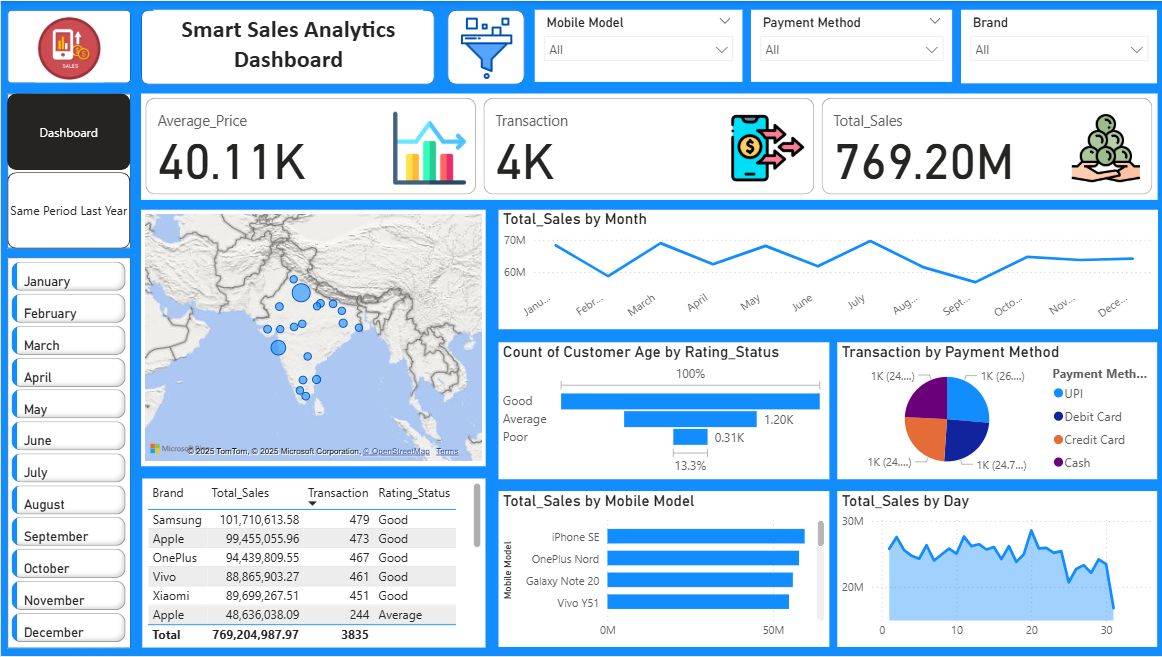

This screenshot's page, from the dashboard's own definition file:
{"tool":"powerbi","page":{"name":"Dashboard","canvas":[1280,720],"ordinal":0},"visuals":[{"type":"shape","box":[6.9,9.6,135.8,81],"z":0},{"type":"shape","box":[6.9,101.5,135.8,170.2],"z":1000},{"type":"shape","box":[6.9,281.3,135.8,429.5],"z":2000},{"type":"advancedSlicerVisual","fields":{"Values":["Custom.Date.Variation.Date Hierarchy.Month"]},"box":[6.9,281.3,135.8,429.5],"z":3000},{"type":"cardVisual","fields":{"Data":["Sales_Data.Average_Price","Sales_Data.Transaction","Sales_Data.Total_Sales"]},"box":[153.7,101.5,1115.6,116.6],"z":4000},{"type":"slicer","fields":{"Values":["Sales_Data.Mobile Model"]},"box":[585.9,9.6,227.8,79.6],"z":5000},{"type":"slicer","fields":{"Values":["Sales_Data.Payment Method"]},"box":[823.3,9.6,220.9,79.6],"z":6000},{"type":"slicer","fields":{"Values":["Sales_Data.Brand"]},"box":[1053.9,9.6,215.4,81],"z":7000},{"type":"shape","box":[489.9,9.6,85.1,82.3],"z":8000},{"type":"image","box":[429.5,12.3,207.2,79.6],"z":9000},{"type":"shape","box":[153.7,9.6,322.5,82.3],"z":10000},{"type":"textbox","box":[167.4,9.6,296.4,78.2],"z":11000},{"type":"map","fields":{"Category":["Sales_Data.City"],"Size":["Sales_Data.Total_Sales"]},"box":[154.3,228.6,378.6,281.4],"z":12000},{"type":"lineChart","fields":{"Y":["Sales_Data.Total_Sales"],"Category":["Custom.Date.Variation.Date Hierarchy.Month"]},"box":[545.7,228.6,724.3,131.4],"z":13000},{"type":"funnel","fields":{"Category":["Sales_Data.Rating_Status"],"Y":["CountNonNull(Sales_Data.Customer Age)"]},"box":[545.7,374.3,362.9,150],"z":14000},{"type":"pieChart","fields":{"Category":["Sales_Data.Payment Method"],"Y":["Sales_Data.Transaction"]},"box":[918.6,374.3,351.4,150],"z":15000},{"type":"clusteredBarChart","fields":{"Y":["Sales_Data.Total_Sales"],"Category":["Sales_Data.Mobile Model"]},"box":[545.7,538.6,362.9,171.4],"z":16000},{"type":"areaChart","fields":{"Y":["Sales_Data.Total_Sales"],"Category":["Custom.Date.Variation.Date Hierarchy.Day"]},"box":[918.6,538.6,351.4,171.4],"z":17000},{"type":"tableEx","fields":{"Values":["Sales_Data.Brand","Sales_Data.Total_Sales","Sales_Data.Transaction","Sales_Data.Rating_Status"]},"box":[155.7,524.3,377.1,185.7],"z":18000},{"type":"image","box":[32.9,7.1,84.3,90],"z":20000},{"type":"pageNavigator","box":[6.9,101.5,135.8,170.2],"z":20001}]}

Visuals, with their boxes in screenshot pixels (x1, y1, x2, y2), scaled from the page's 1280x720 canvas onto the 1162x657 screenshot:
shape: bbox=(6, 9, 130, 83)
shape: bbox=(6, 93, 130, 248)
shape: bbox=(6, 257, 130, 649)
advancedSlicerVisual - Custom.Date.Variation.Date Hierarchy.Month: bbox=(6, 257, 130, 649)
cardVisual - Sales_Data.Average_Price x Sales_Data.Transaction: bbox=(140, 93, 1152, 199)
slicer - Sales_Data.Mobile Model: bbox=(532, 9, 739, 81)
slicer - Sales_Data.Payment Method: bbox=(747, 9, 948, 81)
slicer - Sales_Data.Brand: bbox=(957, 9, 1152, 83)
shape: bbox=(445, 9, 522, 84)
image: bbox=(390, 11, 578, 84)
shape: bbox=(140, 9, 432, 84)
textbox: bbox=(152, 9, 421, 80)
map - Sales_Data.City x Sales_Data.Total_Sales: bbox=(140, 209, 484, 465)
lineChart - Sales_Data.Total_Sales x Custom.Date.Variation.Date Hierarchy.Month: bbox=(495, 209, 1153, 328)
funnel - Sales_Data.Rating_Status x CountNonNull(Sales_Data.Customer Age): bbox=(495, 342, 825, 478)
pieChart - Sales_Data.Payment Method x Sales_Data.Transaction: bbox=(834, 342, 1153, 478)
clusteredBarChart - Sales_Data.Total_Sales x Sales_Data.Mobile Model: bbox=(495, 491, 825, 648)
areaChart - Sales_Data.Total_Sales x Custom.Date.Variation.Date Hierarchy.Day: bbox=(834, 491, 1153, 648)
tableEx - Sales_Data.Brand x Sales_Data.Total_Sales: bbox=(141, 478, 484, 648)
image: bbox=(30, 6, 106, 89)
pageNavigator: bbox=(6, 93, 130, 248)
